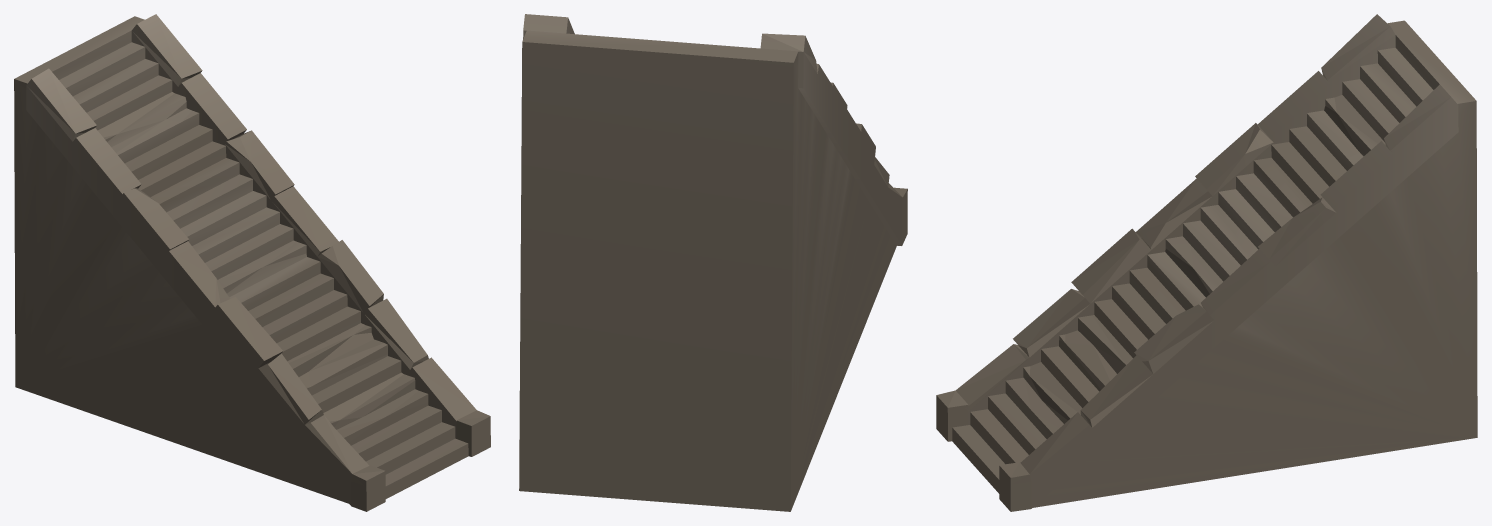
File: Stairs_Long.gltf
The picture shows the model from 3 angles, left to right: view 1: azimuth 30°, elevation 25°; view 2: azimuth 150°, elevation 25°; view 3: azimuth 270°, elevation 25°; orthographic projection. The views are drawn at different scales.
Parts seen in each view (by area): view 1: Stairs_Mid, Stairs_SideB, Stairs_SideA; view 2: Stairs_Mid, Stairs_SideB, Stairs_SideA; view 3: Stairs_Mid, Stairs_SideA, Stairs_SideB.
Part boxes in pixels (x1,y1,x2,y2): Stairs_Mid: (14,16,468,503); Stairs_SideB: (26,68,385,511); Stairs_SideA: (131,14,490,456); Stairs_Mid: (519,30,896,511); Stairs_SideB: (760,33,907,245); Stairs_SideA: (523,14,574,39); Stairs_Mid: (952,20,1477,507); Stairs_SideA: (999,84,1458,511); Stairs_SideB: (936,14,1395,441).
Bounding box in the file's own units: 9.01 × 9.28 × 13.14.
Materials: 1 (1 with a texture image).
